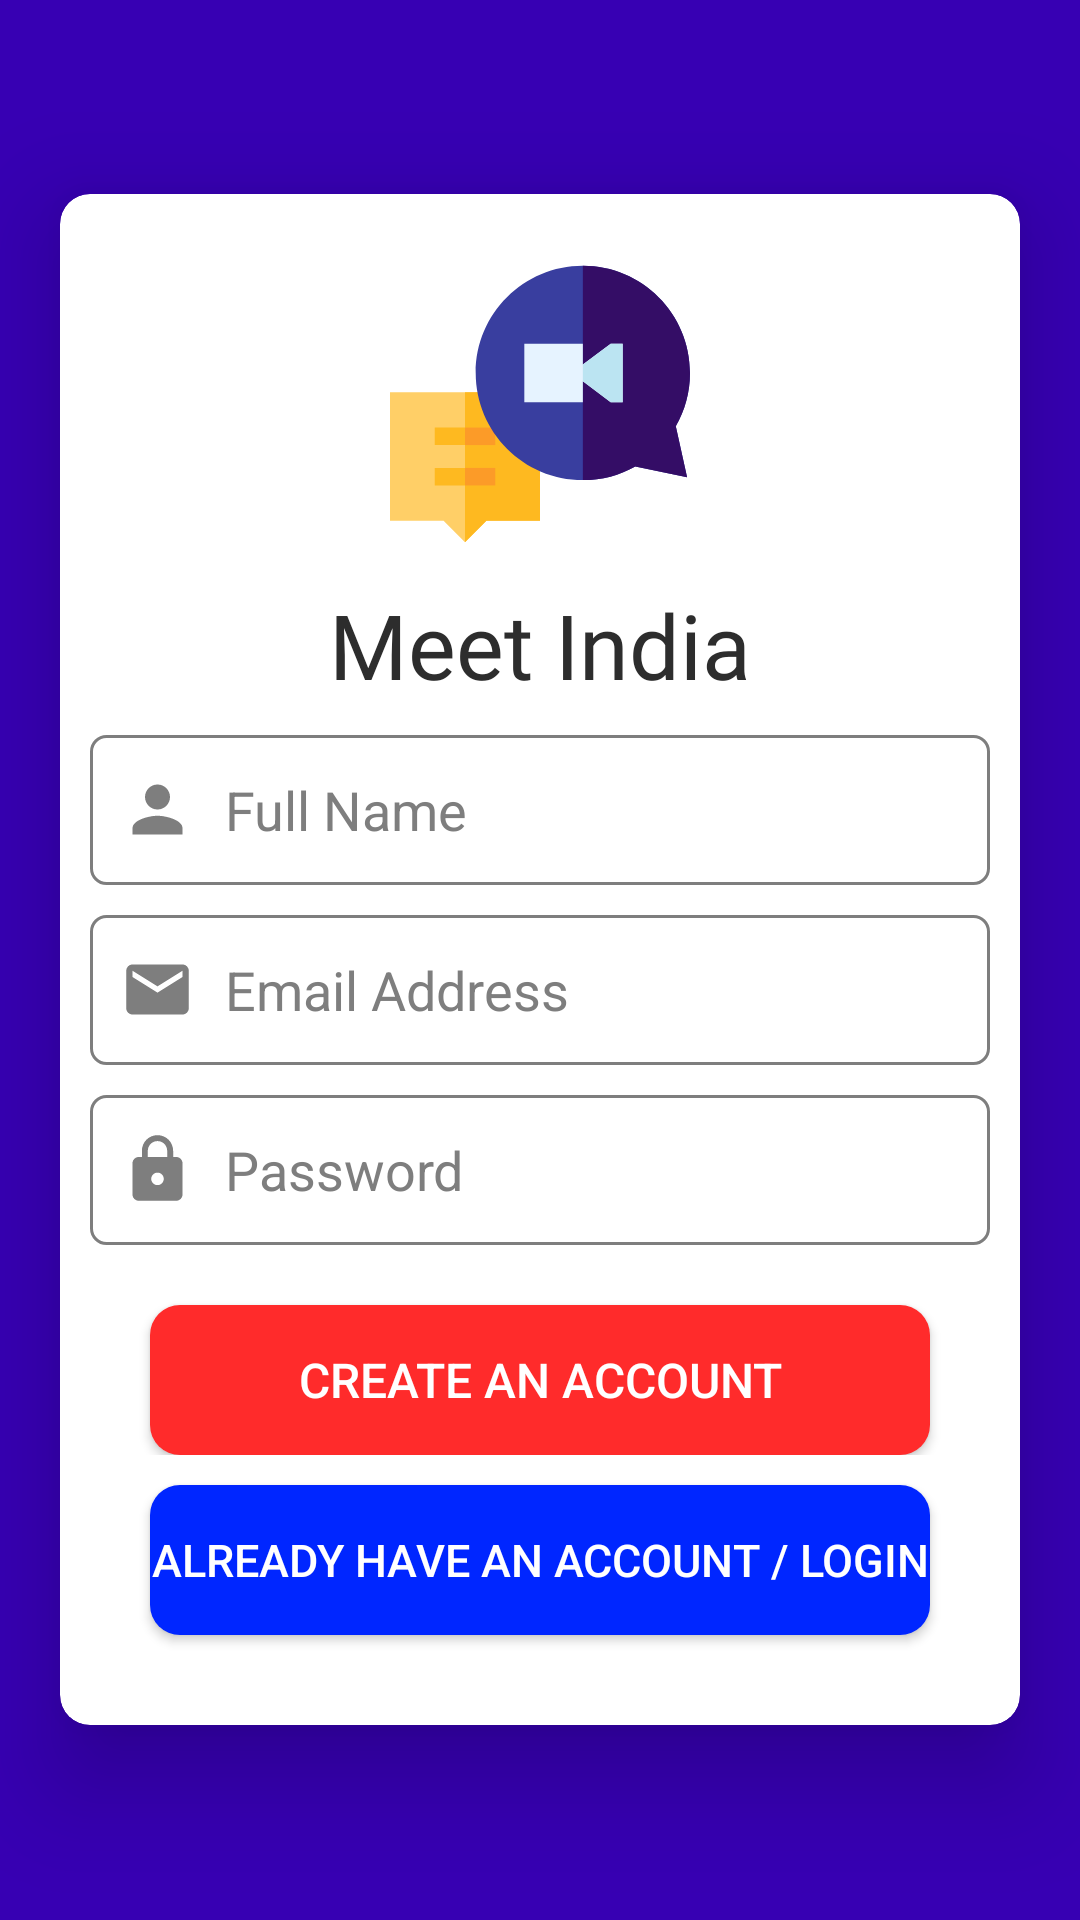

Named icons in this screenshot (1080px x 1920px) and their centers, [x,y]:
online meeting: [540,403]
